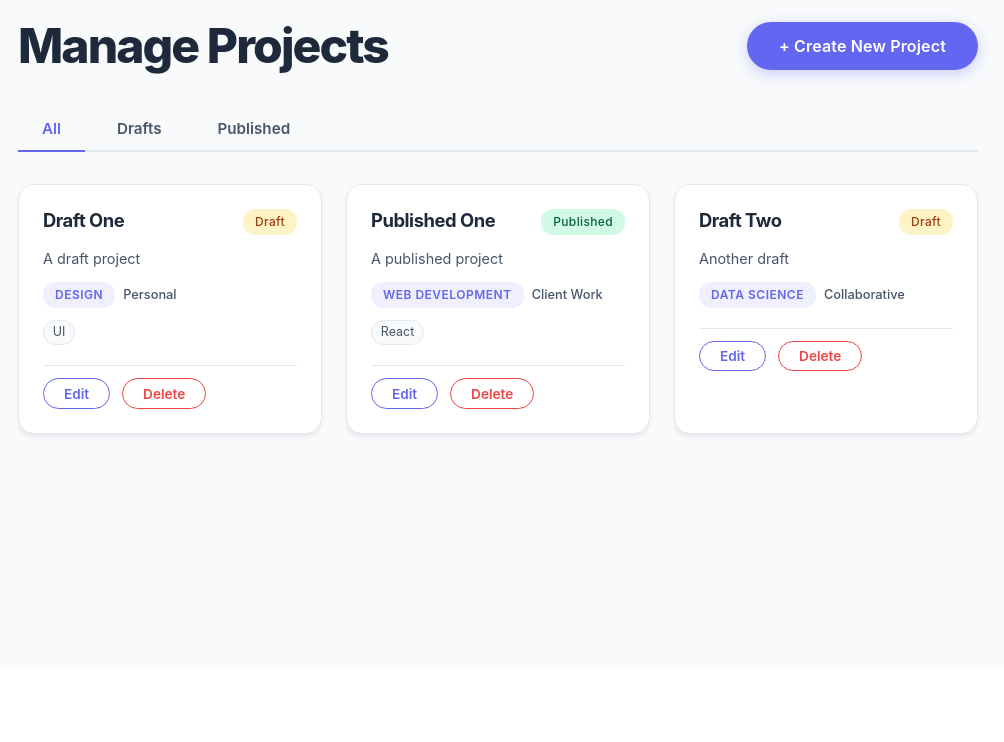
Test: ProjectsManager › Create project › shows project form when create button is clicked
This screenshot has width=1004, height=742.
Click the button "+ Create New Project": (862, 46) x1=747 y1=22 x2=978 y2=70
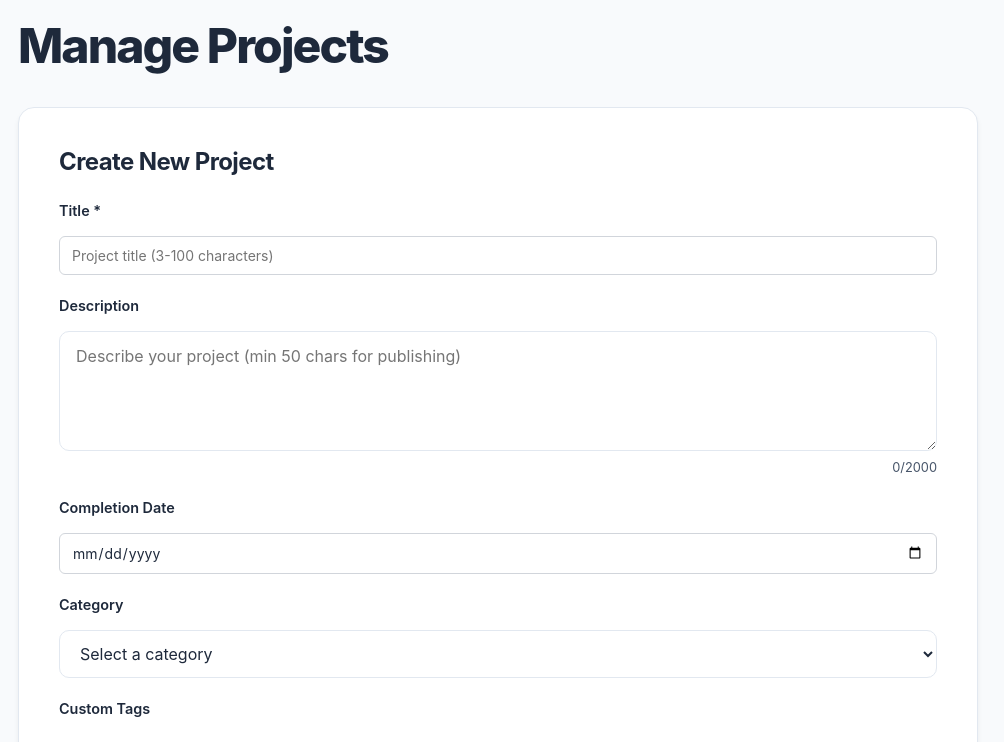
Expected: the heading "Create New Project" is shown, x1=59 y1=147 x2=274 y2=176
Expected: the button "+ Create New Project" is gone
